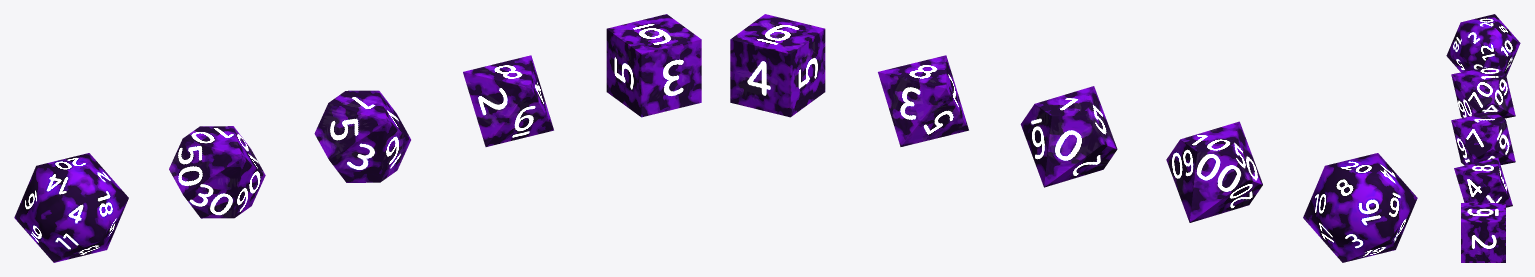
The model's file is DND_CUBES.fbx.
3 views of the same model, side by side, from view 1: azimuth 30°, elevation 25°; view 2: azimuth 150°, elevation 25°; view 3: azimuth 270°, elevation 25° (orthographic). The views are drawn at different scales.
Parts seen in each view (by area): view 1: D_20, D_6, D_90, D_9, D_8; view 2: D_20, D_6, D_9, D_90, D_8; view 3: D_20, D_6, D_9, D_90, D_8.
Boxes of the visible parts, box(x1,y1,x2,y2) form: D_20: box(14, 153, 128, 262); D_6: box(606, 14, 701, 117); D_90: box(169, 126, 265, 218); D_9: box(314, 90, 410, 182); D_8: box(463, 55, 553, 146); D_20: box(1303, 153, 1417, 262); D_6: box(730, 14, 825, 117); D_9: box(1020, 86, 1117, 187); D_90: box(1166, 121, 1262, 222); D_8: box(878, 55, 968, 146); D_20: box(1446, 14, 1520, 76); D_6: box(1461, 203, 1505, 262); D_9: box(1451, 112, 1515, 165); D_90: box(1451, 66, 1515, 118); D_8: box(1454, 157, 1512, 207).
Bounding box in the file's own units: 13.51 × 2.05 × 1.66.
